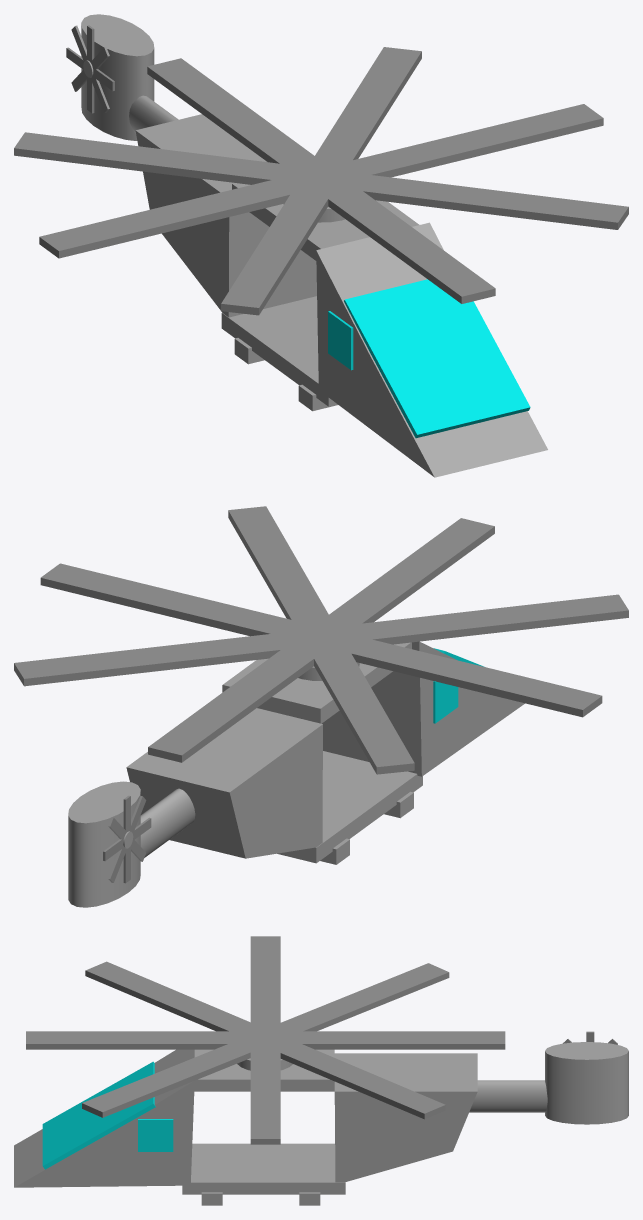
The model's file is Helicopter.fbx.
3 views of the same model, one above another, from view 1: azimuth 30°, elevation 25°; view 2: azimuth 150°, elevation 25°; view 3: azimuth 270°, elevation 25° (orthographic). The views are drawn at different scales.
Visible parts, largest first — view 1: pCube6, pCube2, pCube21, pCube17, pCube18, pCube1, pCube20, pCylinder3, pCube3, pCube7, pCube24, pCylinder1; view 2: pCube1, pCube17, pCube20, pCube18, pCube21, pCube2, pCylinder3, pCube3, pCube7, pCylinder1, pCube24; view 3: pCube1, pCube2, pCube18, pCube3, pCube21, pCube20, pCylinder3, pCube17, pCube6, pCube7, pCylinder1, pCube23.
Boxes of the visible parts, <box> form: pCube6: <box>344,279,530,438</box>; pCube2: <box>316,222,547,477</box>; pCube21: <box>14,132,628,229</box>; pCube17: <box>39,104,603,258</box>; pCube18: <box>147,58,495,303</box>; pCube1: <box>135,114,316,317</box>; pCube20: <box>221,47,421,315</box>; pCylinder3: <box>81,14,154,140</box>; pCube3: <box>221,296,337,406</box>; pCube7: <box>232,183,419,260</box>; pCube24: <box>328,311,353,370</box>; pCylinder1: <box>129,95,178,133</box>; pCube1: <box>126,708,322,858</box>; pCube17: <box>40,563,602,717</box>; pCube20: <box>14,594,628,686</box>; pCube18: <box>148,518,494,762</box>; pCube21: <box>228,506,414,774</box>; pCube2: <box>322,641,524,776</box>; pCylinder3: <box>68,781,140,907</box>; pCube3: <box>277,751,422,863</box>; pCube7: <box>222,642,411,723</box>; pCylinder1: <box>140,788,195,857</box>; pCube24: <box>433,681,458,723</box>; pCube1: <box>334,1053,477,1182</box>; pCube2: <box>14,1049,194,1187</box>; pCube18: <box>26,1031,505,1049</box>; pCube3: <box>182,1143,345,1194</box>; pCube21: <box>82,963,449,1117</box>; pCube20: <box>85,961,445,1119</box>; pCylinder3: <box>545,1042,628,1124</box>; pCube17: <box>250,936,280,1144</box>; pCube6: <box>42,1061,155,1169</box>; pCube7: <box>194,1049,334,1091</box>; pCylinder1: <box>469,1080,547,1112</box>; pCube23: <box>138,1119,173,1151</box>.
Size of the model in its own units: 29.16 by 9.75 by 37.39.
